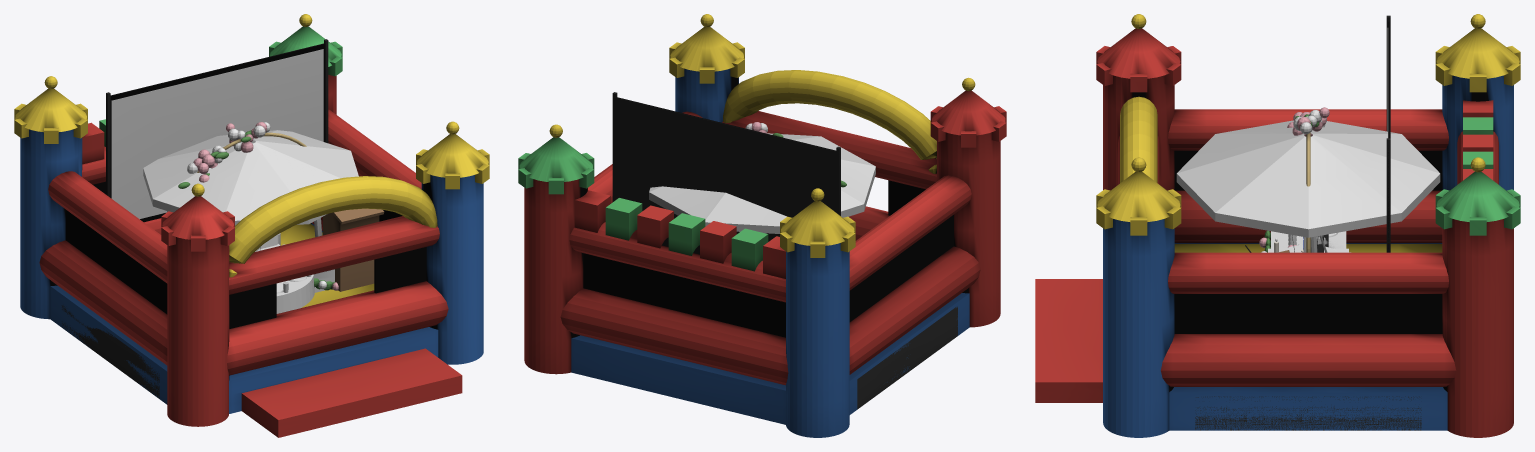
File: mobilia.glb
3 renders of one model, left to right at view 1: azimuth 30°, elevation 25°; view 2: azimuth 150°, elevation 25°; view 3: azimuth 270°, elevation 25°, orthographic. The views are drawn at different scales.
Parts seen in each view (by area): view 1: insuflavel, palco, guarda_sol, arco, mesa_redonda; view 2: insuflavel, palco, guarda_sol; view 3: insuflavel, guarda_sol, palco, arco, mesa_noivos, buffet.
Boxes of the visible parts, <box> form: insuflavel: <box>14,14,489,437</box>; palco: <box>61,39,384,398</box>; guarda_sol: <box>143,130,358,225</box>; arco: <box>167,122,322,237</box>; mesa_redonda: <box>276,274,314,313</box>; insuflavel: <box>518,14,1006,437</box>; palco: <box>612,92,957,409</box>; guarda_sol: <box>649,133,875,233</box>; insuflavel: <box>1035,14,1520,437</box>; guarda_sol: <box>1176,120,1440,237</box>; palco: <box>1195,15,1421,430</box>; arco: <box>1287,107,1329,252</box>; mesa_noivos: <box>1259,230,1346,252</box>; buffet: <box>1273,234,1343,248</box>.
Size of the model in its own units: 4.54 by 3.21 by 5.15.
